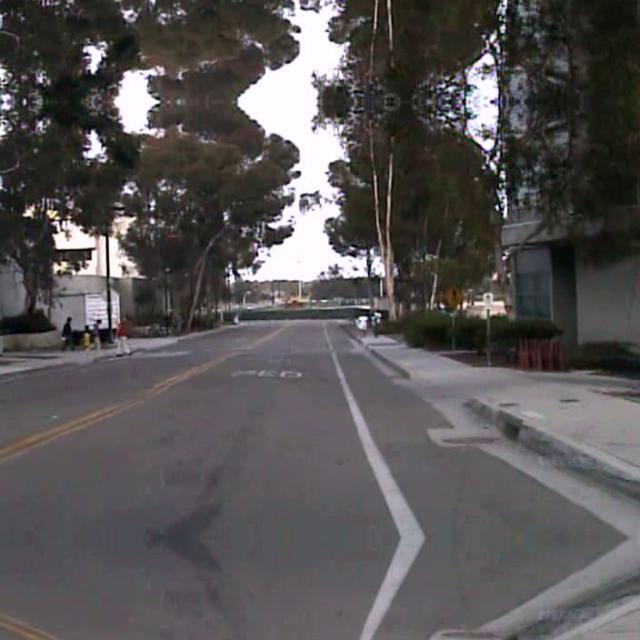pedestrianCrossing: (441, 280, 464, 310)
